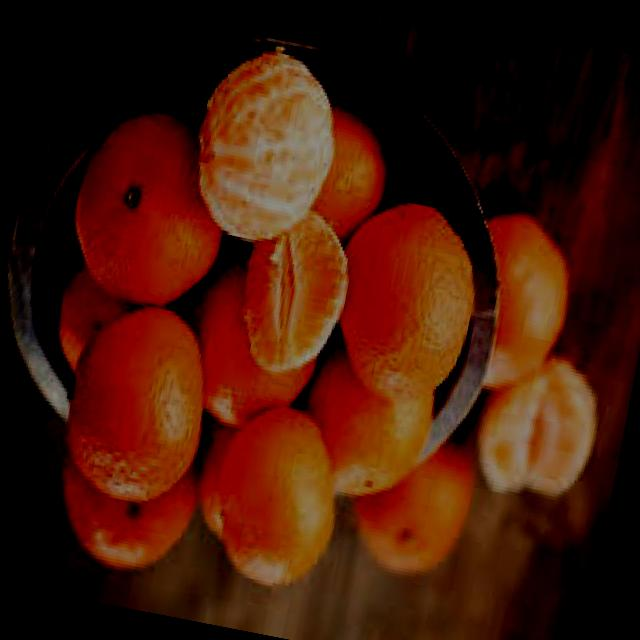Orange: (58, 98, 246, 322), (318, 192, 492, 416), (54, 296, 225, 516), (180, 42, 348, 250), (198, 396, 356, 600), (168, 250, 334, 444), (288, 333, 447, 514), (454, 208, 586, 406), (229, 202, 360, 382), (46, 440, 204, 586), (344, 424, 484, 586), (468, 352, 611, 509), (301, 104, 399, 253), (46, 257, 140, 385)
